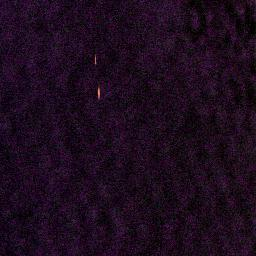Ship: (94, 83, 102, 99), (92, 53, 98, 65)
